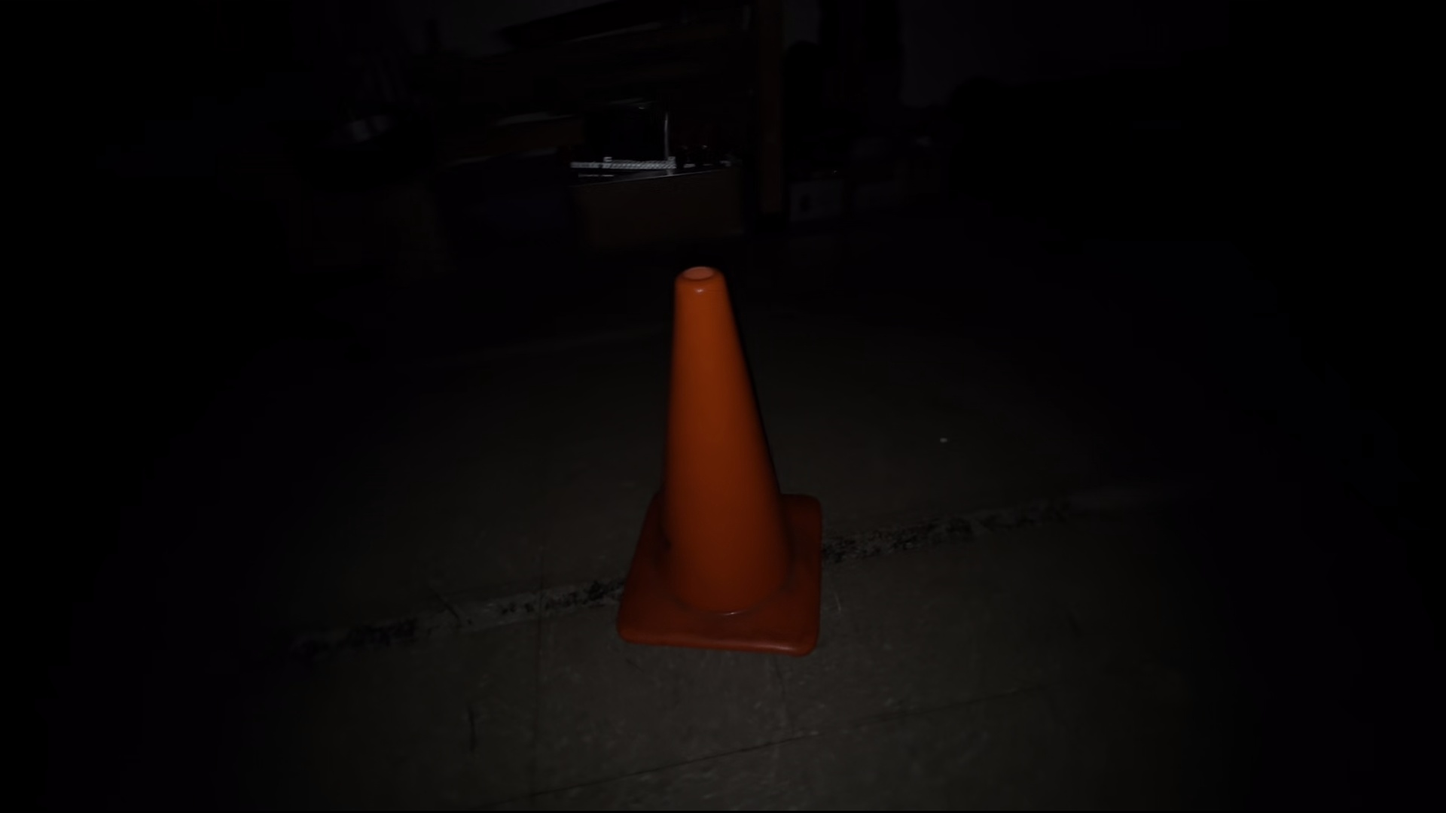traffic_cone: (615, 264, 824, 656)
